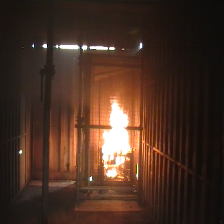fire_h: (101, 101, 132, 155), (103, 156, 130, 169)
fire_l: (105, 168, 124, 179), (102, 154, 109, 161), (109, 154, 115, 161)
